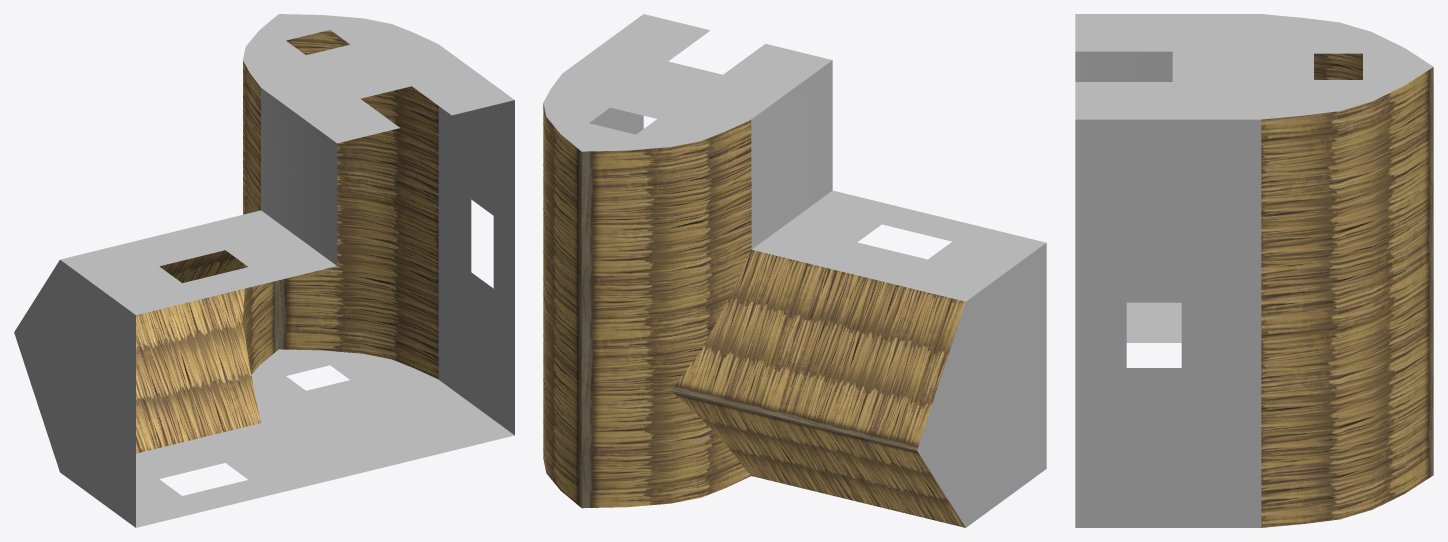
File: Pirate_House_Exterior_Type01_D.fbx
3 renders of one model, left to right at view 1: azimuth 30°, elevation 25°; view 2: azimuth 150°, elevation 25°; view 3: azimuth 270°, elevation 25°, orthographic. The views are drawn at different scales.
Parts seen in each view (by area): view 1: Pirate_House_Exterior_Type01_D; view 2: Pirate_House_Exterior_Type01_D; view 3: Pirate_House_Exterior_Type01_D.
Part boxes in pixels (bbox=[...]): Pirate_House_Exterior_Type01_D: bbox=[14, 14, 514, 527]; Pirate_House_Exterior_Type01_D: bbox=[543, 14, 1046, 527]; Pirate_House_Exterior_Type01_D: bbox=[1075, 14, 1433, 527].
Bounding box in the file's own units: 11.58 × 9.8 × 7.79.
